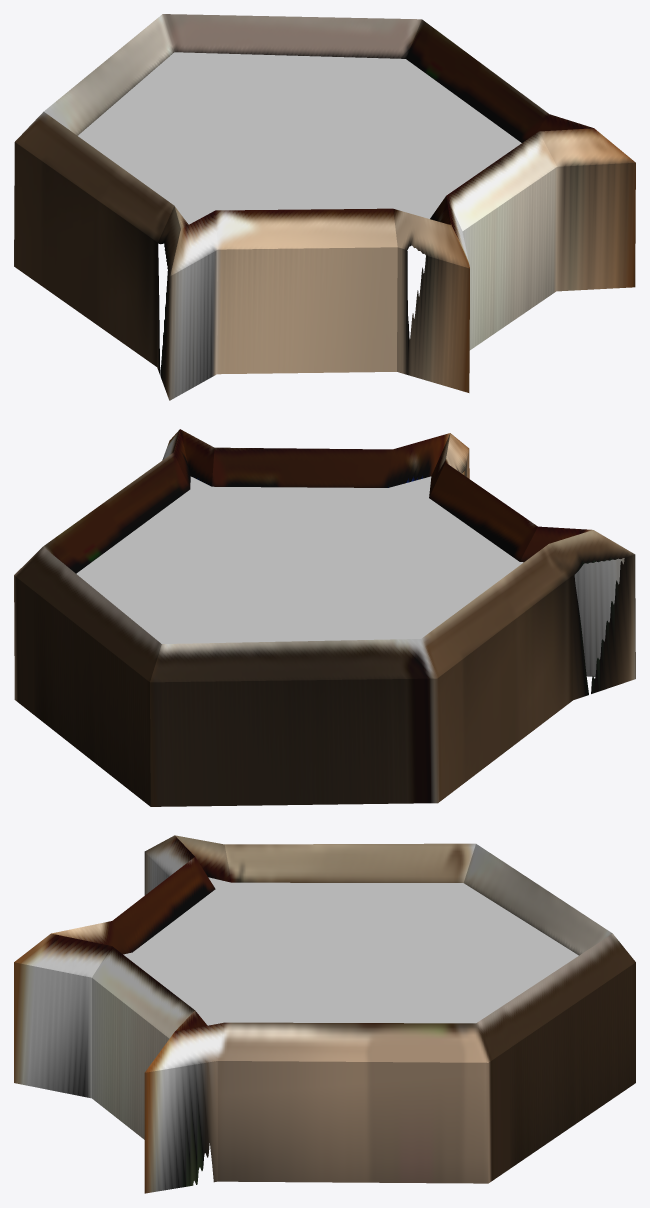
Rendered from GodUlti.fbx.
3 renders of one model, top to bottom at view 1: azimuth 30°, elevation 25°; view 2: azimuth 150°, elevation 25°; view 3: azimuth 270°, elevation 25°, orthographic. The views are drawn at different scales.
Visible parts, largest first — view 1: body_god_ulti; view 2: body_god_ulti; view 3: body_god_ulti.
Boxes of the visible parts, box(x1,y1,x2,y2) form: body_god_ulti: box(14, 14, 635, 400); body_god_ulti: box(14, 429, 635, 806); body_god_ulti: box(14, 835, 635, 1193).
Size of the model in its own units: 15.11 by 4.76 by 17.92.
